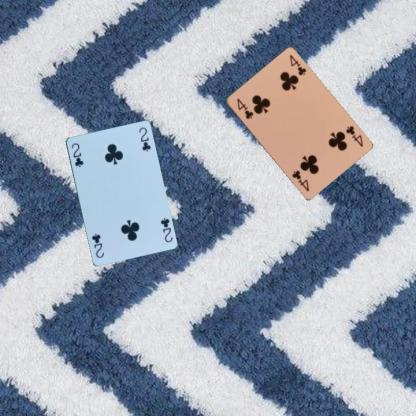2c: (158, 215, 174, 243), (69, 141, 84, 168)
4c: (343, 123, 364, 149), (234, 96, 254, 121)
